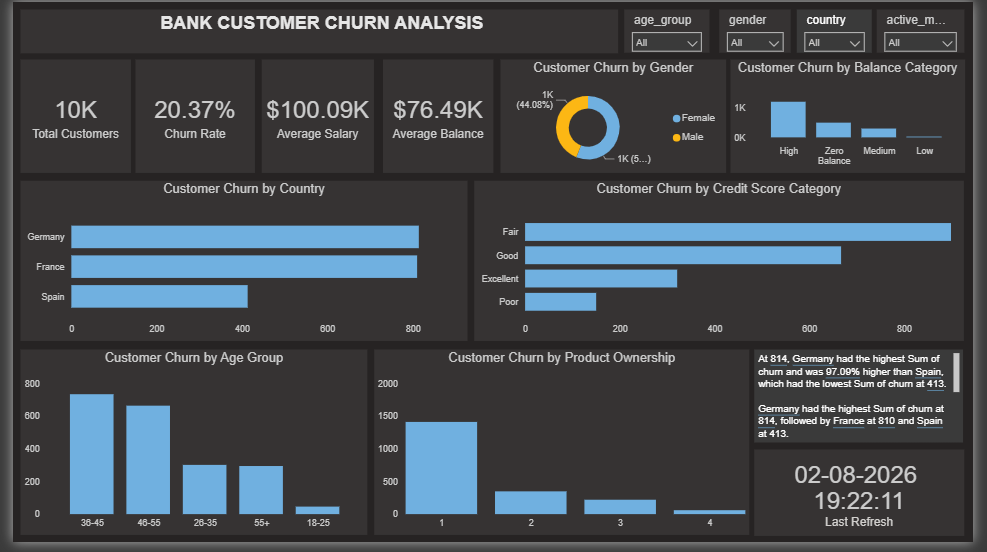

The page's visual inventory and layout, read from the dashboard file:
{"tool":"powerbi","page":{"name":"Page 1","canvas":[1280,720],"ordinal":0},"visuals":[{"type":"textbox","box":[10,10,797,58],"z":0},{"type":"card","fields":{"Values":["public bank_customer_churn.Total Customers"]},"box":[10,77,147.2,150.8],"z":1000},{"type":"card","fields":{"Values":["public bank_customer_churn.Churn Rate"]},"box":[164,77,159,151],"z":2000},{"type":"card","fields":{"Values":["public bank_customer_churn.Average Salary"]},"box":[332,77,149.6,150.8],"z":3000},{"type":"card","fields":{"Values":["public bank_customer_churn.Average Balance"]},"box":[493,77,147.2,150.8],"z":4000},{"type":"donutChart","title":"Customer Churn by Gender","fields":{"Y":["Sum(public bank_customer_churn.churn)"],"Category":["public bank_customer_churn.gender"]},"box":[650,77,300.4,150.8],"z":5000},{"type":"clusteredColumnChart","title":"Customer Churn by Age Group","fields":{"Category":["public bank_customer_churn.age_group"],"Y":["Sum(public bank_customer_churn.churn)"]},"box":[10,463.8,462.5,247.5],"z":6000},{"type":"clusteredBarChart","title":"Customer Churn by Country","fields":{"Category":["public bank_customer_churn.country"],"Y":["Sum(public bank_customer_churn.churn)"]},"box":[10,238.8,596.2,213.8],"z":7000},{"type":"clusteredColumnChart","title":"Customer Churn by Product Ownership","fields":{"Y":["Sum(public bank_customer_churn.churn)"],"Category":["public bank_customer_churn.products_number"]},"box":[481.2,463.8,500,247.5],"z":8000},{"type":"clusteredBarChart","title":"Customer Churn by Credit Score Category","fields":{"Category":["public bank_customer_churn.credit_score_category"],"Y":["Sum(public bank_customer_churn.churn)"]},"box":[615,238.8,652.5,213.8],"z":9000},{"type":"columnChart","title":"Customer Churn by Balance Category","fields":{"Category":["public bank_customer_churn.balance_category"],"Y":["Sum(public bank_customer_churn.churn)"]},"box":[957,77,312.5,150.8],"z":10000},{"type":"slicer","fields":{"Values":["public bank_customer_churn.age_group"]},"box":[815,10,113.3,57.8],"z":11000},{"type":"slicer","fields":{"Values":["public bank_customer_churn.gender"]},"box":[941,10,95.6,57.8],"z":12000},{"type":"slicer","fields":{"Values":["public bank_customer_churn.active_member"]},"box":[1151,10,116.7,57.8],"z":13000},{"type":"slicer","fields":{"Values":["public bank_customer_churn.country"]},"box":[1045,10,100,57.8],"z":13001},{"type":"textbox","box":[988.8,463.8,278.8,123.8],"z":13002},{"type":"card","fields":{"Values":["measure.Last Refresh"]},"box":[988.8,596.2,280,115],"z":13003}]}

Visuals, with their boxes in screenshot pixels (x1, y1, x2, y2), scaled from the page's 1280x720 canvas onto the 987x552 screenshot:
textbox: [8,8,622,52]
card - public bank_customer_churn.Total Customers: [8,59,121,175]
card - public bank_customer_churn.Churn Rate: [126,59,249,175]
card - public bank_customer_churn.Average Salary: [256,59,371,175]
card - public bank_customer_churn.Average Balance: [380,59,494,175]
"Customer Churn by Gender" donutChart: [501,59,733,175]
"Customer Churn by Age Group" clusteredColumnChart: [8,356,364,545]
"Customer Churn by Country" clusteredBarChart: [8,183,467,347]
"Customer Churn by Product Ownership" clusteredColumnChart: [371,356,757,545]
"Customer Churn by Credit Score Category" clusteredBarChart: [474,183,977,347]
"Customer Churn by Balance Category" columnChart: [738,59,979,175]
slicer - public bank_customer_churn.age_group: [628,8,716,52]
slicer - public bank_customer_churn.gender: [726,8,799,52]
slicer - public bank_customer_churn.active_member: [888,8,978,52]
slicer - public bank_customer_churn.country: [806,8,883,52]
textbox: [762,356,977,450]
card - measure.Last Refresh: [762,457,978,545]
